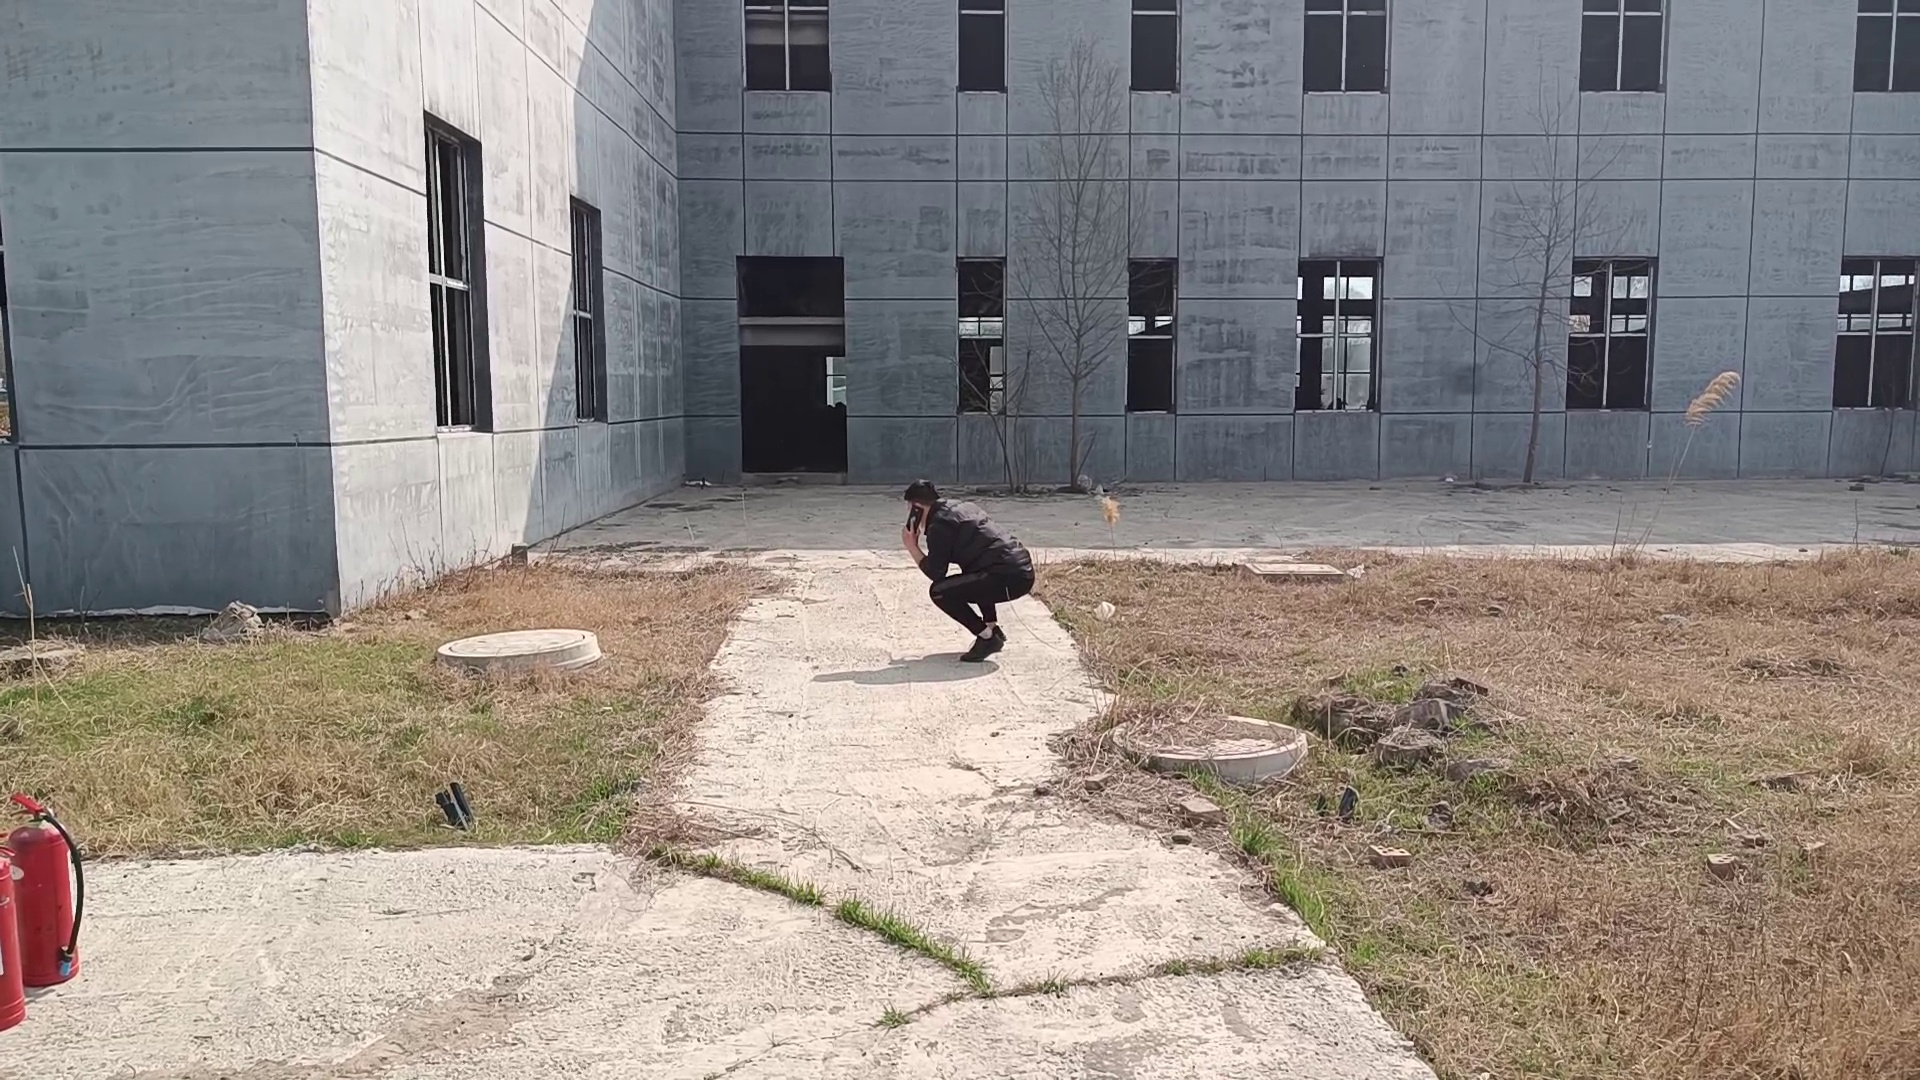phone: (895, 475, 942, 531)
